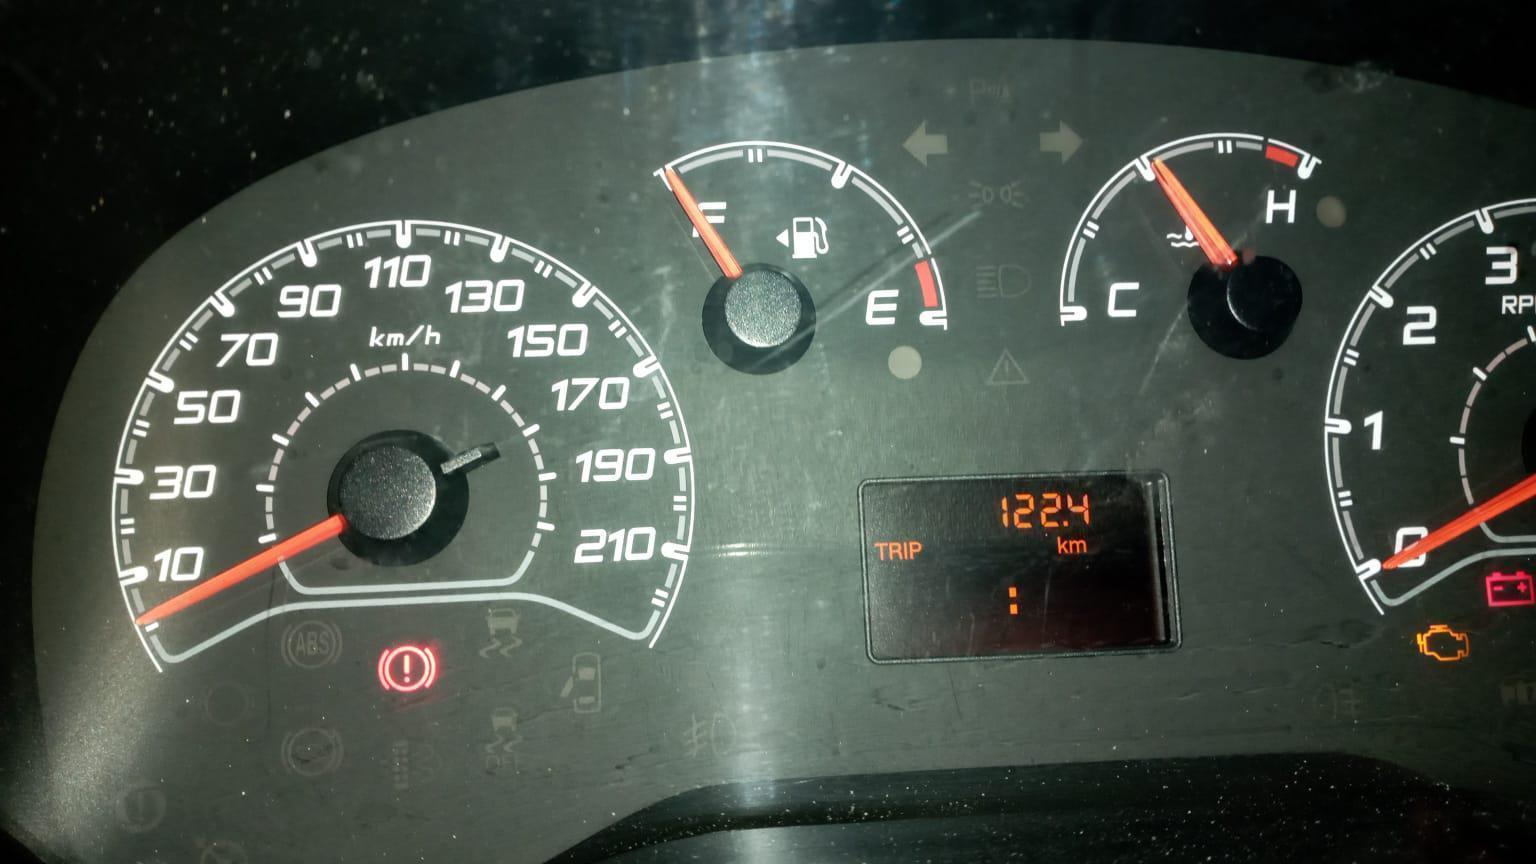,: (1062, 519, 1069, 527)
1: (1000, 495, 1009, 527)
2: (1012, 492, 1035, 529), (1038, 491, 1061, 527)
4: (1065, 492, 1090, 525)
X: (1007, 584, 1019, 615), (873, 541, 889, 561), (1068, 539, 1088, 554), (908, 540, 922, 559), (888, 541, 902, 560), (1056, 536, 1069, 554), (902, 541, 908, 560)
odometer: (857, 466, 1186, 671)
